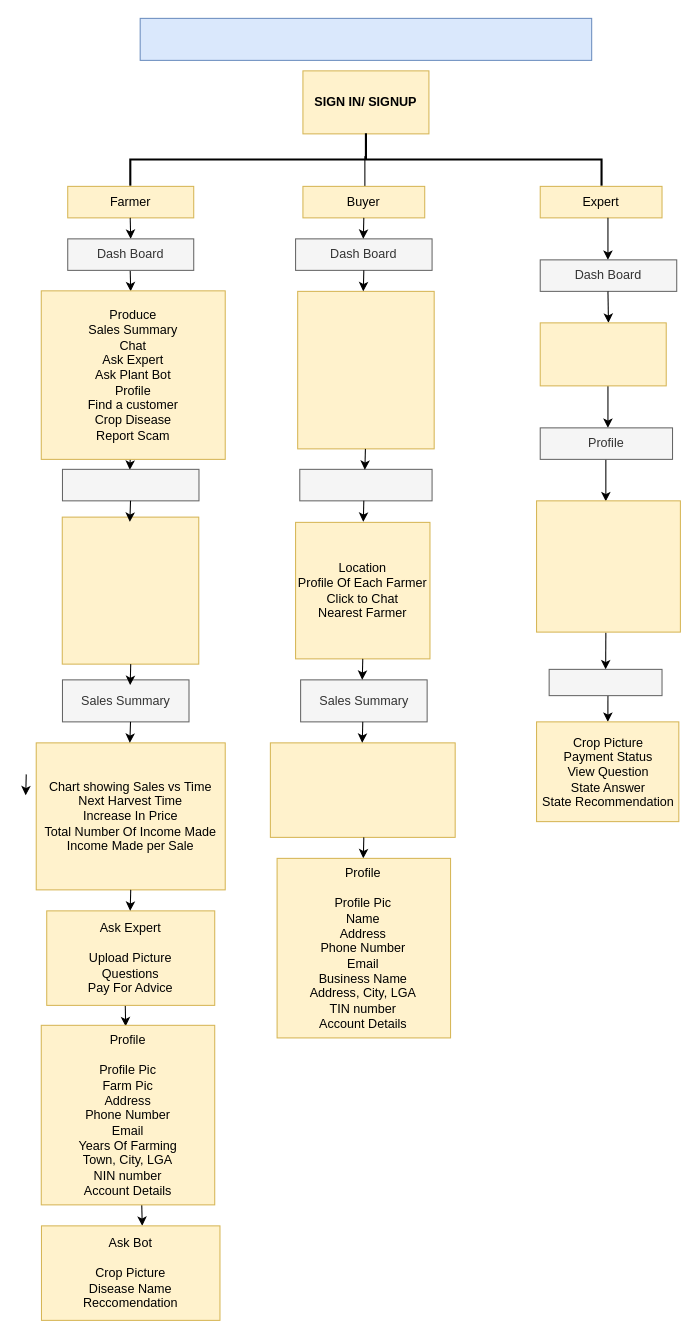
Image size: 699x1339. Some labels were removed from this diagram. The shapes that lost their labels are listed below. From the top down, each one's centre as x and y in pixels, then its label:
the point at 365,38: Supposed Layout For Farmily App
the point at 365,369: Find a Farmer Chat Nearest Farmer Profile Rate Farmer Report Scam
the point at 602,354: Profile Help A Farmer Report Scam
the point at 130,484: Produce
the point at 365,484: Find A Farmer
the point at 608,566: Qualification Work Experience Years Of Experience Account Details Profile Pic
the point at 130,590: Last Harvest Current Amount Of Produce Next Harvest Time
the point at 605,682: Help A Farmer
the point at 362,789: Chart showing Total Items Bought Increase In Price
